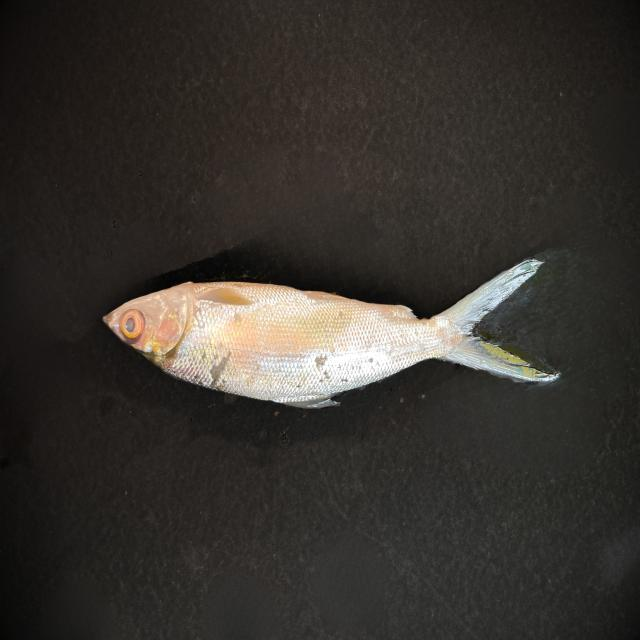575 g: (102, 258, 560, 409)
